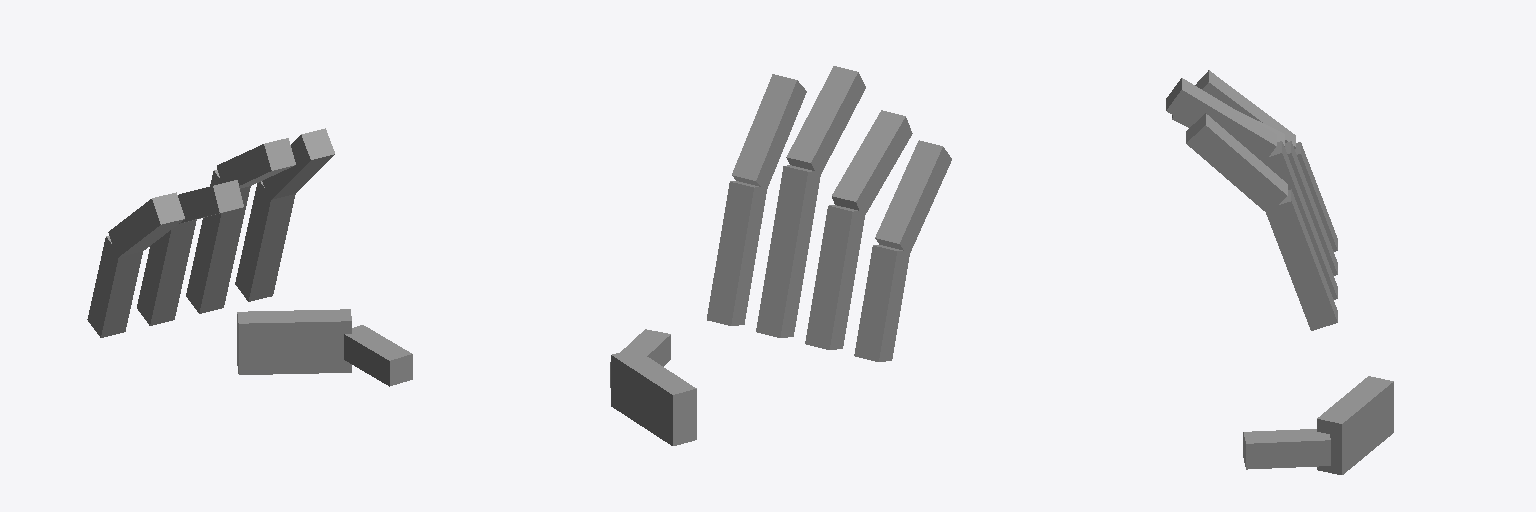
Rendered from powerFistFingersFiring.obj.
3 views of the same model, side by side, from view 1: azimuth 30°, elevation 25°; view 2: azimuth 150°, elevation 25°; view 3: azimuth 270°, elevation 25° (orthographic).
Visible parts, largest first — view 1: thumb1_firing, index1_firing, middlefinger1_firing, ringfinger1_firing, pinky1_firing, thumb2_firing, pinky2_firing, index2_firing, middlefinger2_firing, ringfinger2_firing; view 2: middlefinger1_firing, thumb1_firing, ringfinger1_firing, index1_firing, pinky1_firing, index2_firing, pinky2_firing, middlefinger2_firing, ringfinger2_firing, thumb2_firing; view 3: thumb1_firing, index1_firing, index2_firing, middlefinger2_firing, thumb2_firing, middlefinger1_firing, pinky2_firing, ringfinger1_firing, pinky1_firing.
Part boxes in pixels (x1,y1,x2,y2): thumb1_firing: (237, 309, 351, 374); index1_firing: (235, 181, 295, 301); middlefinger1_firing: (186, 170, 250, 313); ringfinger1_firing: (137, 220, 196, 325); pinky1_firing: (87, 236, 142, 337); thumb2_firing: (344, 325, 412, 386); pinky2_firing: (108, 192, 184, 257); index2_firing: (262, 128, 334, 199); middlefinger2_firing: (217, 138, 295, 188); ringfinger2_firing: (178, 180, 243, 223); middlefinger1_firing: (756, 165, 821, 337); thumb1_firing: (611, 348, 696, 445); ringfinger1_firing: (805, 205, 864, 349); index1_firing: (707, 181, 766, 325); pinky1_firing: (854, 245, 910, 361); index2_firing: (732, 74, 806, 191); pinky2_firing: (875, 140, 951, 252); middlefinger2_firing: (786, 66, 865, 174); ringfinger2_firing: (832, 110, 912, 218); thumb2_firing: (610, 329, 670, 387); thumb1_firing: (1317, 376, 1393, 474); index1_firing: (1266, 189, 1337, 330); index2_firing: (1186, 113, 1287, 213); middlefinger2_firing: (1166, 78, 1276, 162); thumb2_firing: (1243, 429, 1330, 469); middlefinger1_firing: (1264, 141, 1337, 299); pinky2_firing: (1195, 70, 1295, 148); ringfinger1_firing: (1285, 141, 1337, 275); pinky1_firing: (1295, 142, 1337, 251).
Bounding box in the file's own units: 0.7097 × 0.7681 × 0.5012.